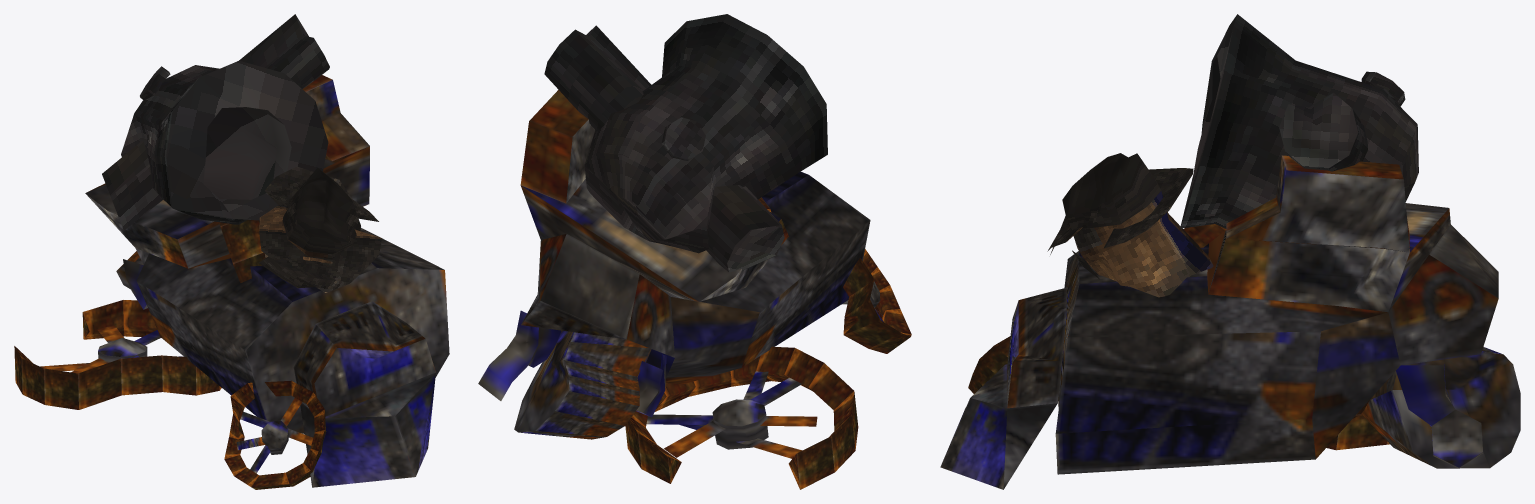
3 views of the same model, side by side, from view 1: azimuth 30°, elevation 25°; view 2: azimuth 150°, elevation 25°; view 3: azimuth 270°, elevation 25° (orthographic). The views are drawn at different scales.
Visible parts, largest first — view 1: artillery_body, gun, artillery_R_wheel, head, artillery_FR_wheel, artillery_L_wheel; view 2: artillery_body, gun, artillery_R_wheel, artillery_backwheel, artillery_FR_wheel; view 3: artillery_body, gun, head, artillery_backwheel, artillery_R_wheel, artillery_FR_wheel, artillery_L_wheel.
Boxes of the visible parts, left/top/right/bottom form: artillery_body: left=85, top=75, right=449, bottom=487; gun: left=102, top=14, right=329, bottom=230; artillery_R_wheel: left=14, top=300, right=221, bottom=409; head: left=259, top=166, right=381, bottom=292; artillery_FR_wheel: left=224, top=380, right=326, bottom=489; artillery_L_wheel: left=219, top=219, right=265, bottom=282; artillery_body: left=478, top=90, right=870, bottom=417; gun: left=544, top=14, right=827, bottom=272; artillery_R_wheel: left=625, top=346, right=858, bottom=489; artillery_backwheel: left=514, top=330, right=651, bottom=439; artillery_FR_wheel: left=843, top=249, right=911, bottom=353; artillery_body: left=940, top=155, right=1498, bottom=489; gun: left=1180, top=14, right=1418, bottom=228; head: left=1047, top=153, right=1213, bottom=297; artillery_backwheel: left=1361, top=347, right=1520, bottom=468; artillery_R_wheel: left=1326, top=414, right=1389, bottom=450; artillery_FR_wheel: left=968, top=336, right=1010, bottom=393; artillery_L_wheel: left=1183, top=224, right=1369, bottom=418.
Bounding box in the file's own units: 133 × 153 × 189.
7 materials, 7 textured.
